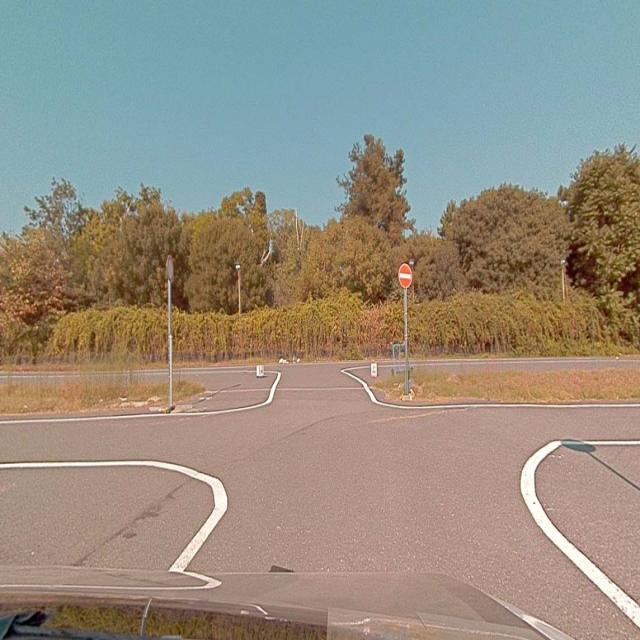girisyok: (398, 264, 412, 286)
